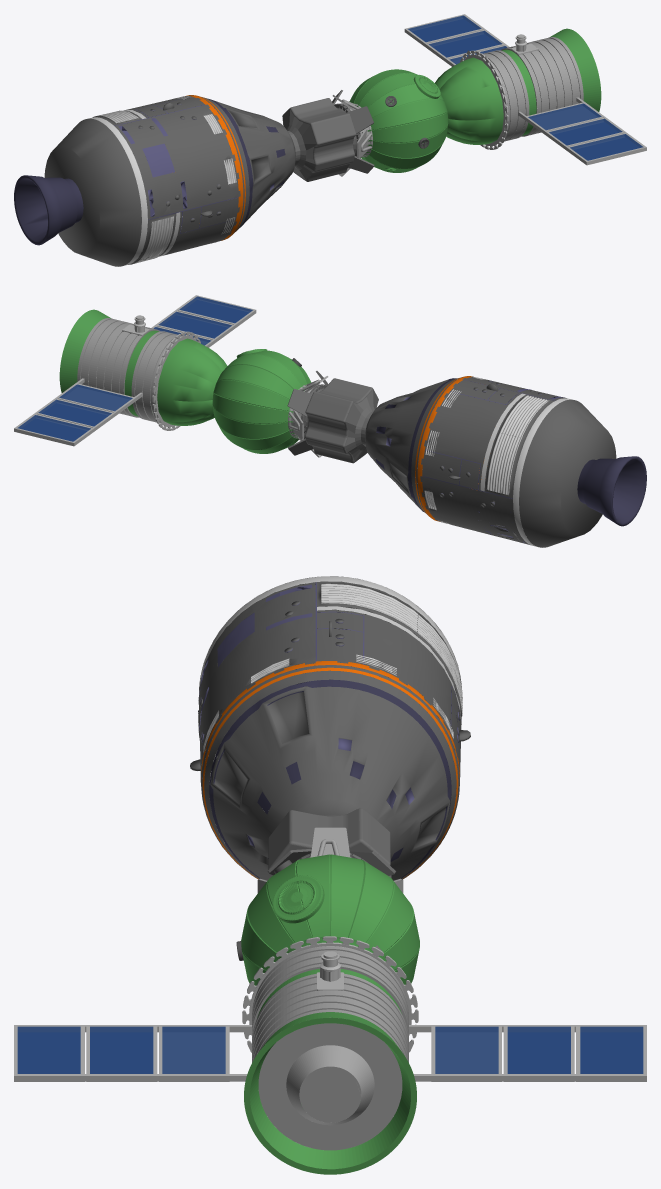
Rendered from soyuzapollo.glb.
The picture shows the model from 3 angles, top to bottom: view 1: azimuth 30°, elevation 25°; view 2: azimuth 150°, elevation 25°; view 3: azimuth 270°, elevation 25°; orthographic projection. The views are drawn at different scales.
Visible parts, largest first — view 1: APOLLO, SOYUZ; view 2: APOLLO, SOYUZ; view 3: SOYUZ, APOLLO.
Boxes of the visible parts, bbox=[...] form: APOLLO: bbox=[14, 90, 374, 266]; SOYUZ: bbox=[332, 14, 646, 176]; APOLLO: bbox=[287, 371, 646, 547]; SOYUZ: bbox=[14, 295, 328, 457]; SOYUZ: bbox=[14, 827, 646, 1174]; APOLLO: bbox=[190, 576, 470, 880].
Bounding box in the file's own units: 69 × 17.85 × 39.93.
